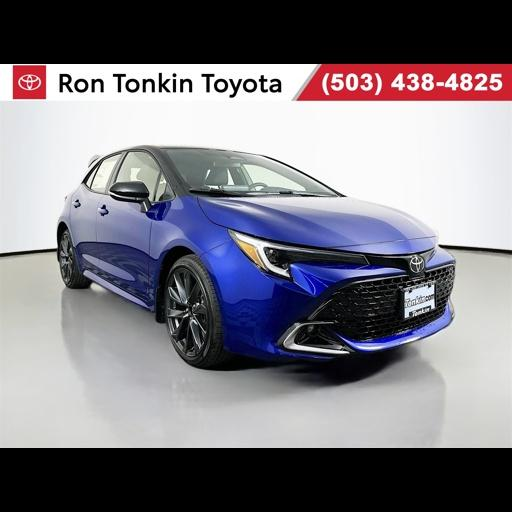hatchback: (57, 144, 454, 367)
